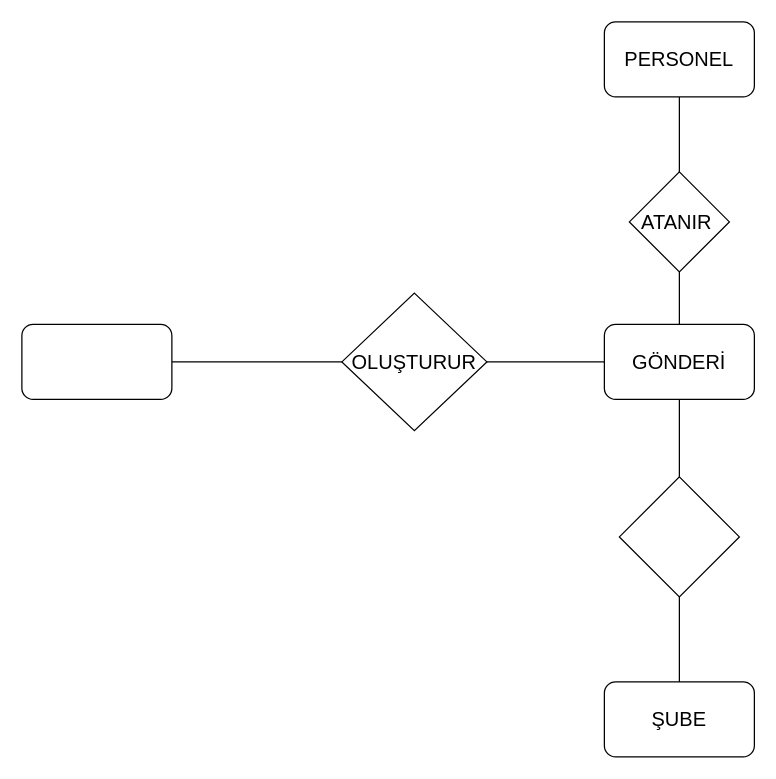
Image size: 776x779. Some labels were removed from this diagram. Here are the shapes that lost their labels. From the top down, the centre of each, then its label:
the point at 96,361: MÜŞTERİ
the point at 678,536: TESLİM EDİLİR
